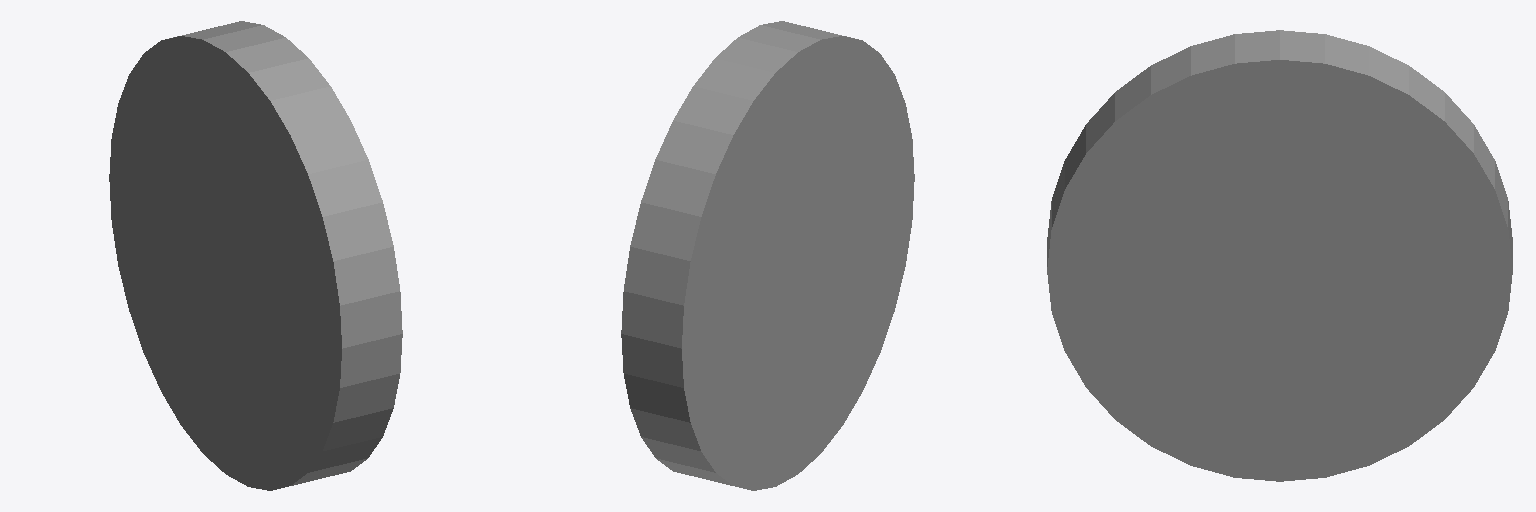
File: Target.obj
3 renders of one model, left to right at view 1: azimuth 30°, elevation 25°; view 2: azimuth 150°, elevation 25°; view 3: azimuth 270°, elevation 25°, orthographic.
Visible parts, largest first — view 1: Cylinder; view 2: Cylinder; view 3: Cylinder.
Part boxes in pixels (left/top/right/bottom): Cylinder: left=109, top=21, right=402, bottom=490; Cylinder: left=621, top=21, right=914, bottom=490; Cylinder: left=1047, top=30, right=1512, bottom=481.
Bounding box in the file's own units: 0.3 × 2 × 2.